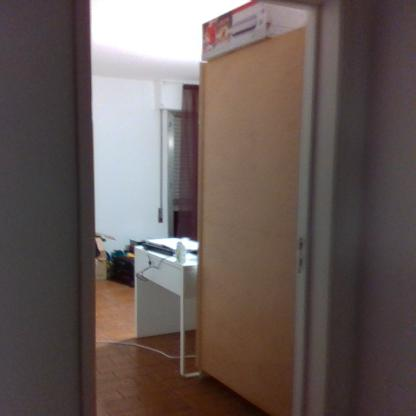open: (67, 0, 356, 415)
